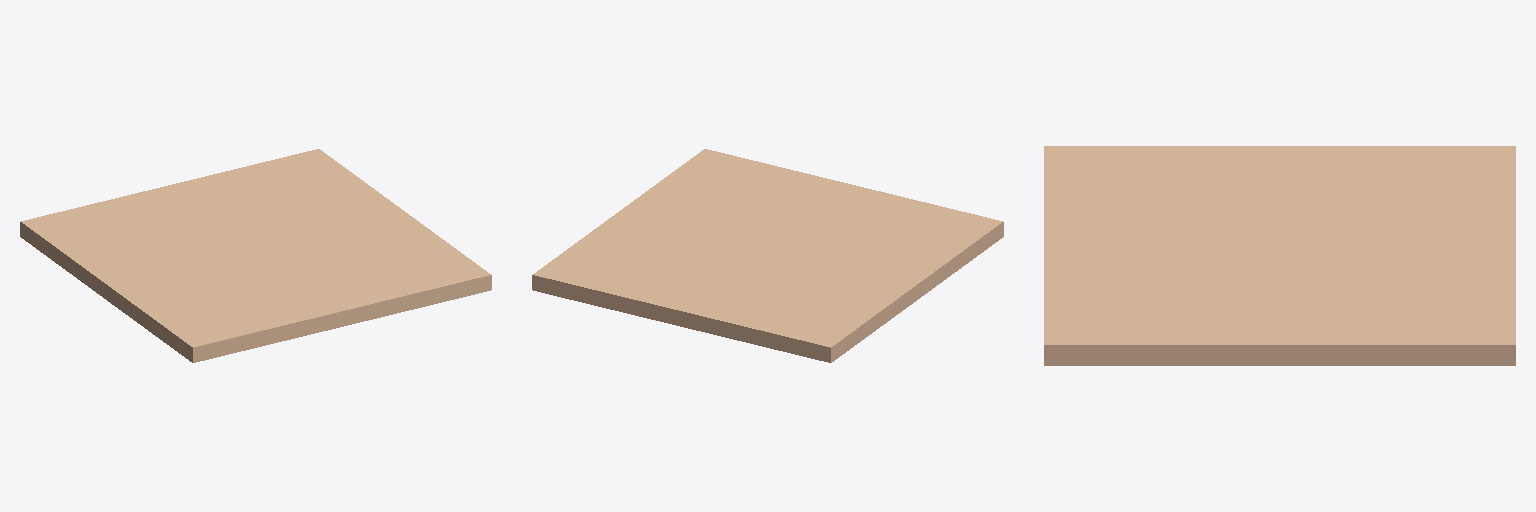
URDF robot description (flat_terrain):
<?xml version="1.0"?>
<robot name="flat_terrain">
  <link name="base_link">
    <visual>
      <origin xyz="0 0 -0.05" rpy="0 0 0" />
      <geometry>
        <box size="2 2 0.1" />
      </geometry>
      <material name="desert sand">
        <color rgba="0.9297 0.7930 0.6758 1" />
      </material>
    </visual>
    <collision>
      <origin xyz="0 0 -0.05" rpy="0 0 0" />
      <geometry>
        <box size="2 2 0.1" />
      </geometry>
    </collision>
  </link>
</robot>

--- Render facts (derived) ---
The picture shows the robot from 3 angles, left to right: view 1: azimuth 30°, elevation 25°; view 2: azimuth 150°, elevation 25°; view 3: azimuth 270°, elevation 25°; orthographic projection.
Robot: flat_terrain — 1 links, 0 joints (none); root link base_link; default pose: all joints at 0.
Visible links, largest first — view 1: base_link; view 2: base_link; view 3: base_link.
Link boxes in pixels (x1,y1,x2,y2): base_link: (20,149,491,362); base_link: (532,149,1003,362); base_link: (1044,146,1515,365).
Bounding box of the posed robot: 2 × 2 × 0.1 m (x, y, z).
Geometry: primitives only (box / cylinder / sphere), no mesh files.